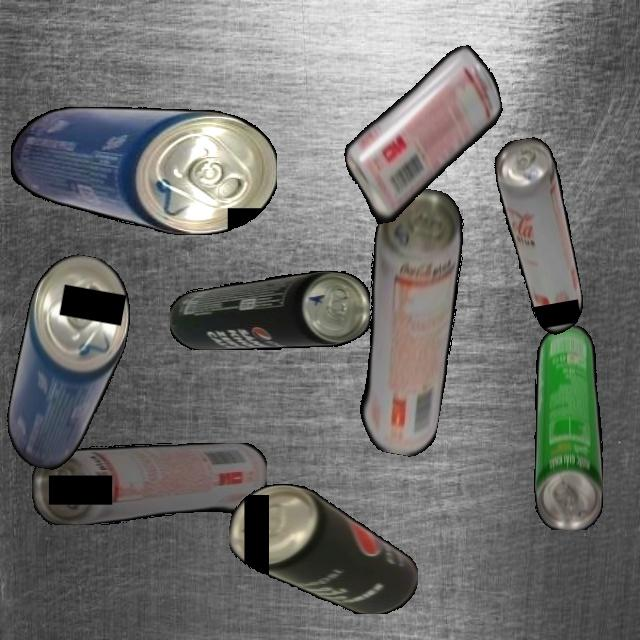debris: (339, 182, 477, 460), (330, 42, 518, 227), (10, 107, 277, 235), (0, 248, 139, 478), (229, 483, 418, 614), (491, 134, 588, 342), (32, 442, 267, 525), (169, 271, 370, 350), (533, 324, 603, 530)
